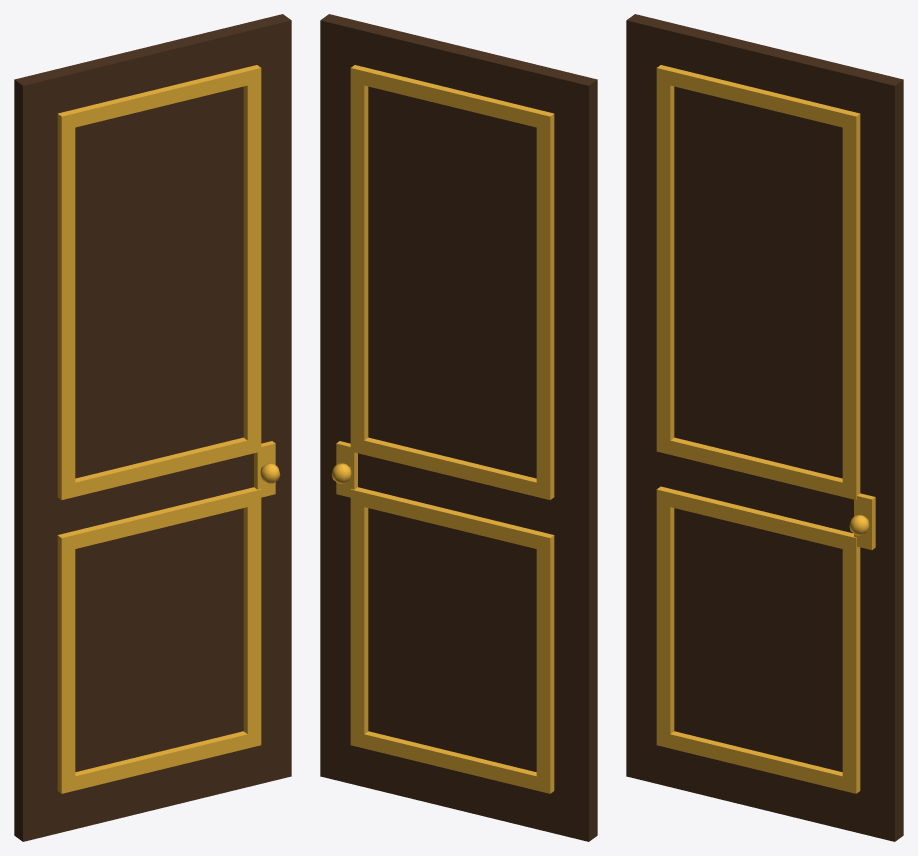
File: SM_Door_academy_wood_90x240.fbx
3 views of the same model, side by side, from view 1: azimuth 30°, elevation 25°; view 2: azimuth 150°, elevation 25°; view 3: azimuth 330°, elevation 25° (orthographic).
Visible parts, largest first — view 1: SM_Door_academy_wood_90x240; view 2: SM_Door_academy_wood_90x240; view 3: SM_Door_academy_wood_90x240.
Part boxes in pixels (x1,y1,x2,y2): SM_Door_academy_wood_90x240: [14, 14, 291, 841]; SM_Door_academy_wood_90x240: [320, 14, 597, 841]; SM_Door_academy_wood_90x240: [626, 14, 903, 841].
Bounding box in the file's own units: 0.888 × 2.39 × 0.19.
